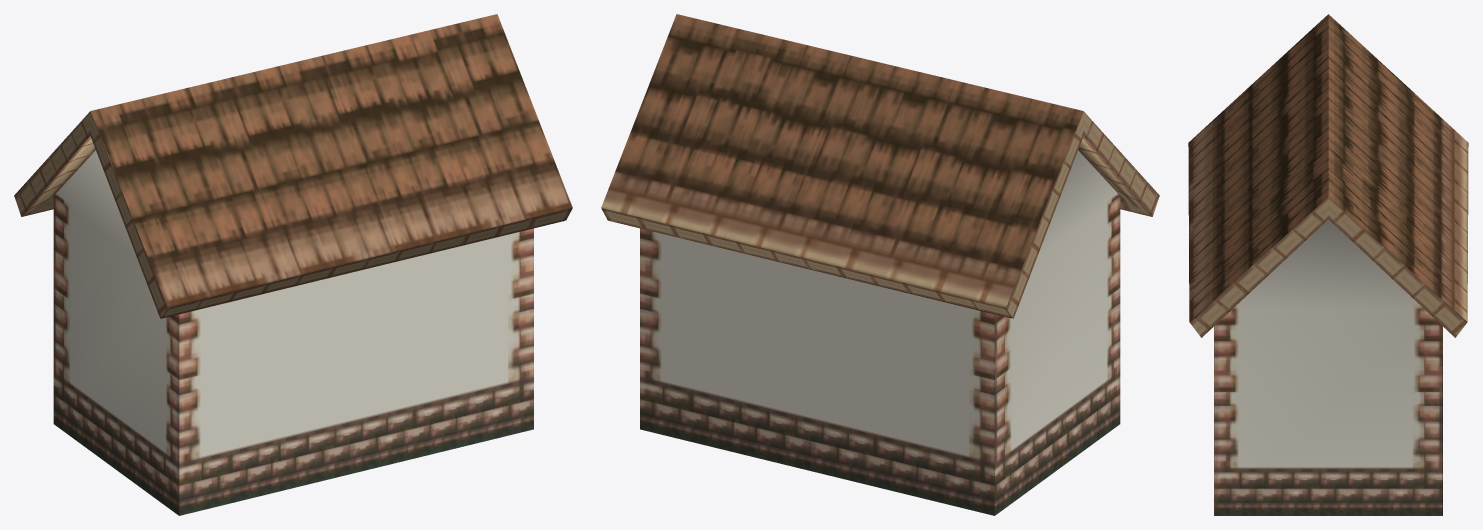
Rendered from house_base_01.fbx.
3 views of the same model, side by side, from view 1: azimuth 30°, elevation 25°; view 2: azimuth 150°, elevation 25°; view 3: azimuth 270°, elevation 25° (orthographic). The views are drawn at different scales.
Visible parts, largest first — view 1: house_base_04; view 2: house_base_04; view 3: house_base_04.
Boxes of the visible parts, bbox=[...] form: house_base_04: bbox=[14, 14, 572, 515]; house_base_04: bbox=[601, 14, 1159, 515]; house_base_04: bbox=[1188, 14, 1468, 515].
Bounding box in the file's own units: 371 × 319 × 243.
